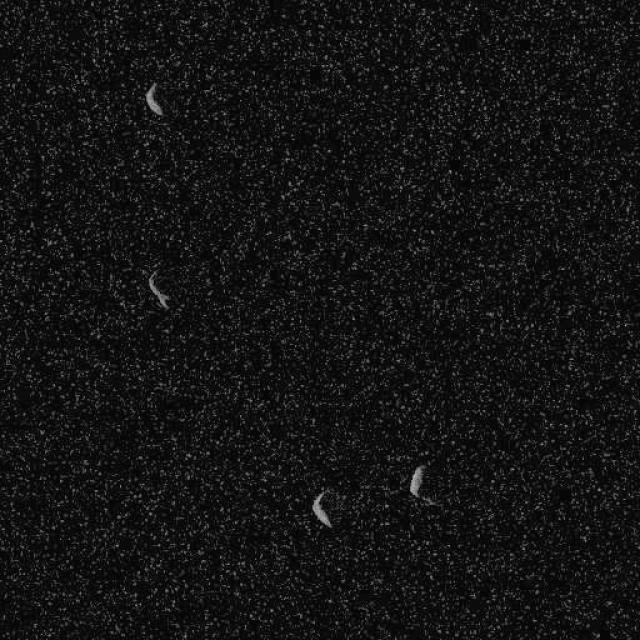D2: (408, 463, 438, 505), (146, 269, 170, 310), (310, 490, 332, 529), (144, 81, 164, 118), (409, 463, 426, 498)
